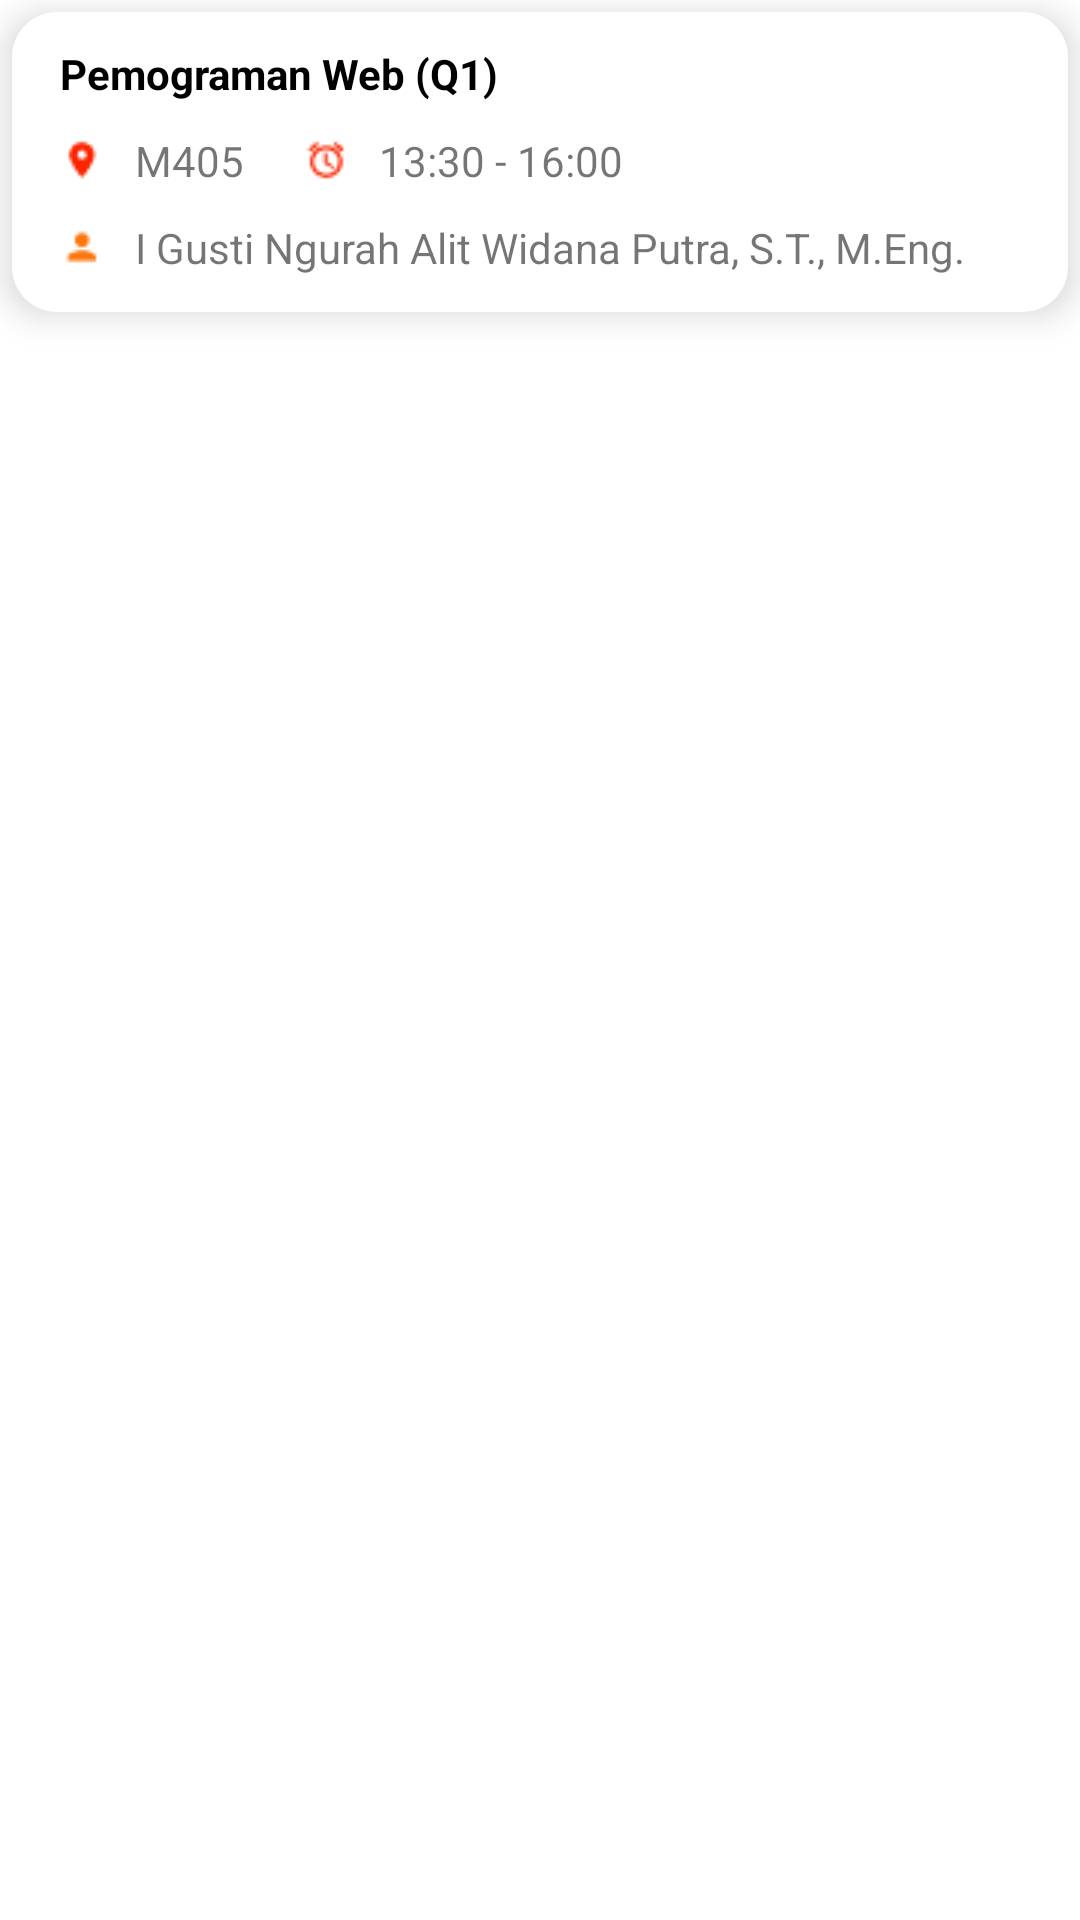

Named icons in this screenshot (1080 × 1920) and their bounding boxes, {"left": x1, "top": y1, "right": x2, "bottom": y2}:
person: {"left": 65, "top": 231, "right": 97, "bottom": 263}
room: {"left": 68, "top": 141, "right": 97, "bottom": 179}
time: {"left": 306, "top": 141, "right": 344, "bottom": 179}
